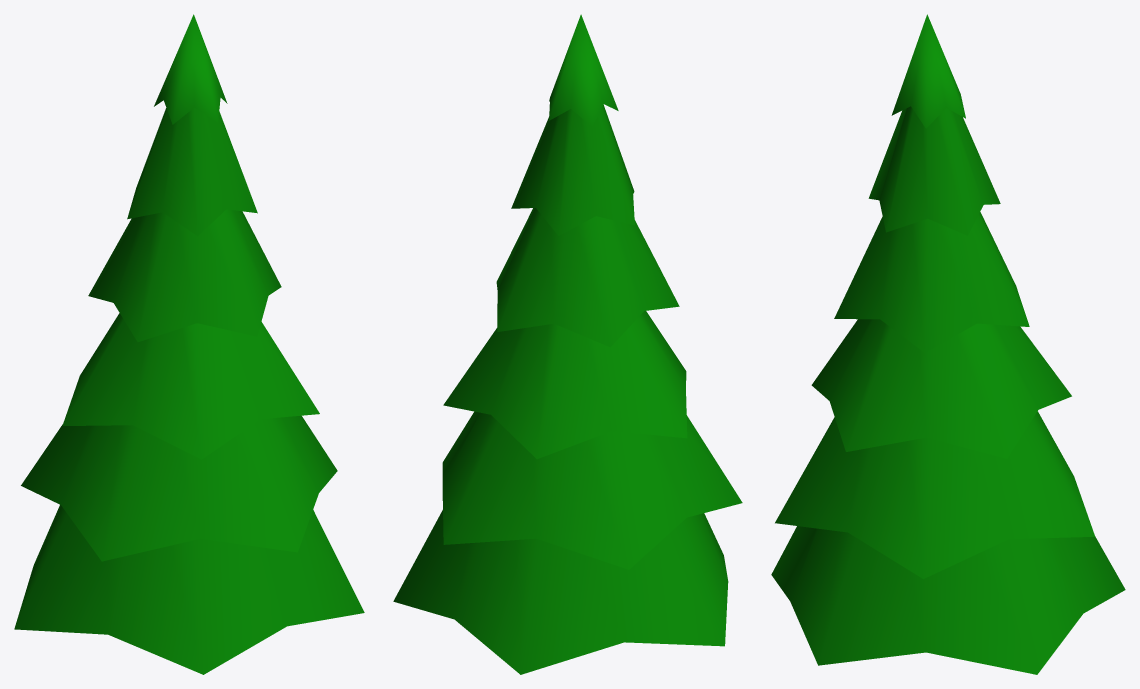
File: tree5.fbx
3 views of the same model, side by side, from view 1: azimuth 30°, elevation 25°; view 2: azimuth 150°, elevation 25°; view 3: azimuth 270°, elevation 25° (orthographic). The views are drawn at different scales.
Visible parts, largest first — view 1: Цилиндр.007; view 2: Цилиндр.007; view 3: Цилиндр.007.
Boxes of the visible parts, bbox=[...] form: Цилиндр.007: bbox=[14, 14, 364, 674]; Цилиндр.007: bbox=[393, 14, 742, 674]; Цилиндр.007: bbox=[771, 14, 1125, 674].
Bounding box in the file's own units: 480 × 917 × 479.
